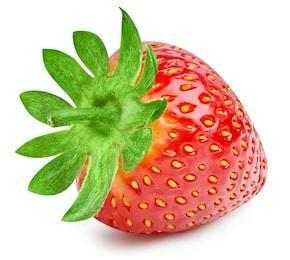Fresa: (66, 36, 276, 240)
